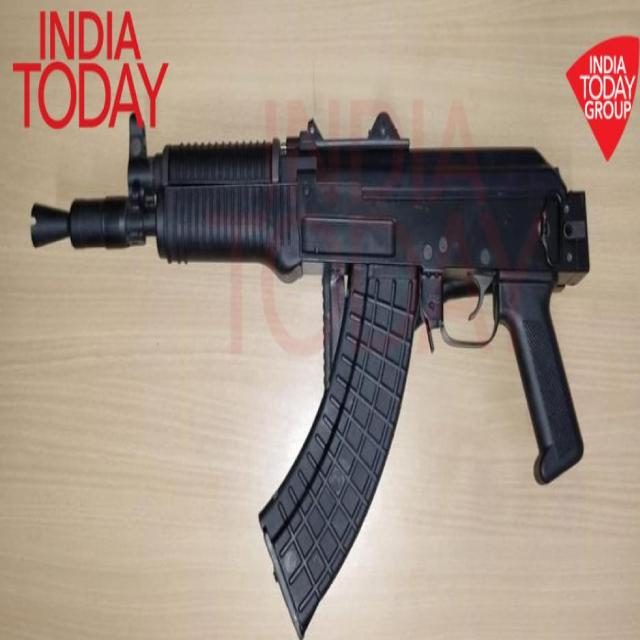Weapon: (30, 112, 588, 638)
